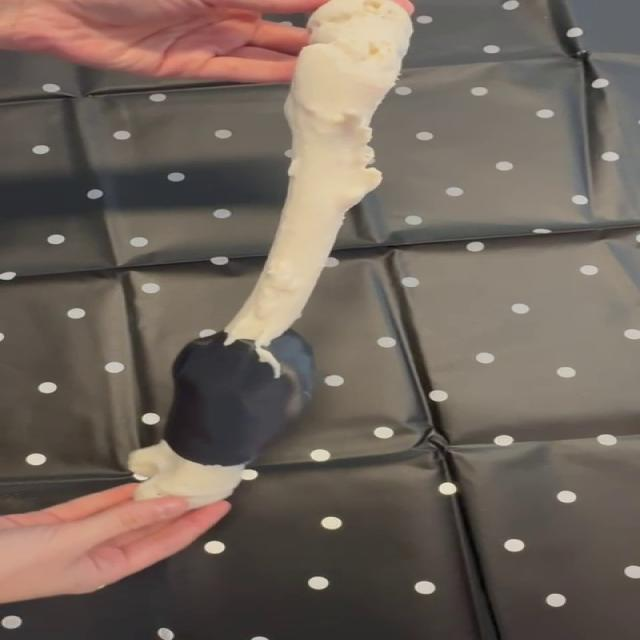bones: (128, 0, 413, 508)
